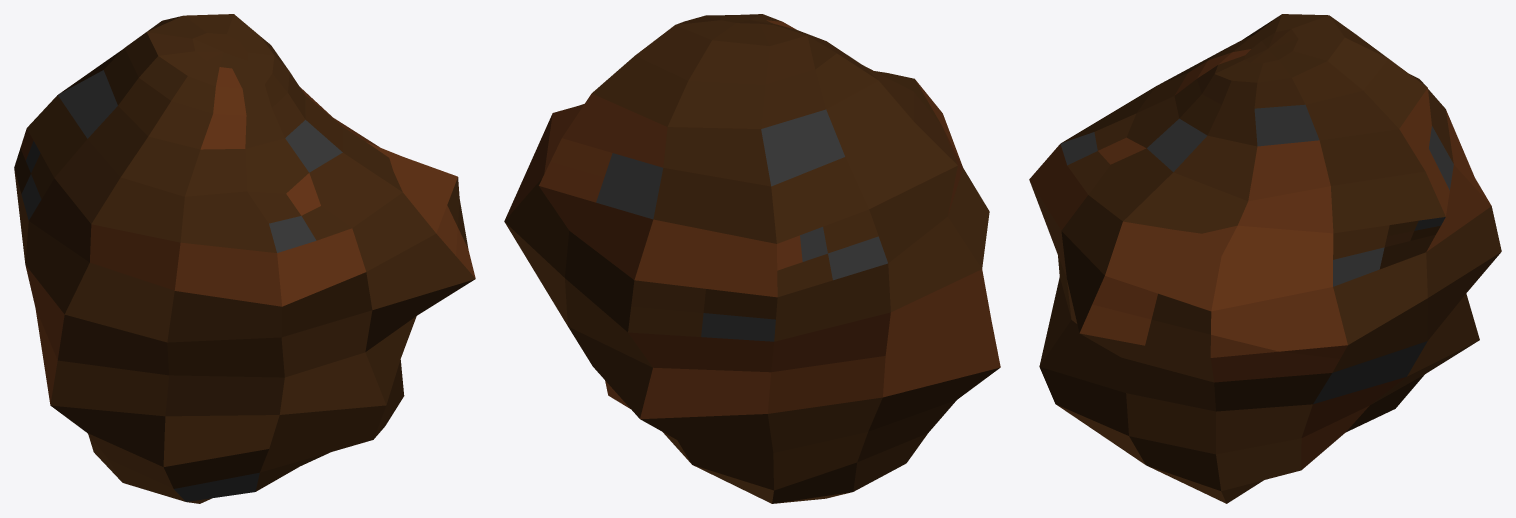
Rendered from meteor.fbx.
3 views of the same model, side by side, from view 1: azimuth 30°, elevation 25°; view 2: azimuth 150°, elevation 25°; view 3: azimuth 270°, elevation 25° (orthographic). The views are drawn at different scales.
Parts seen in each view (by area): view 1: Sphere; view 2: Sphere; view 3: Sphere.
Boxes of the visible parts, x1=… form: Sphere: x1=14, y1=14, x2=475, y2=503; Sphere: x1=504, y1=14, x2=1000, y2=503; Sphere: x1=1029, y1=14, x2=1501, y2=503.
Bounding box in the file's own units: 190 × 185 × 185.
